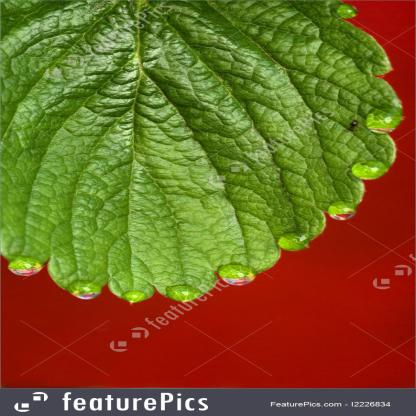strawberry leaf: (0, 0, 405, 307)
